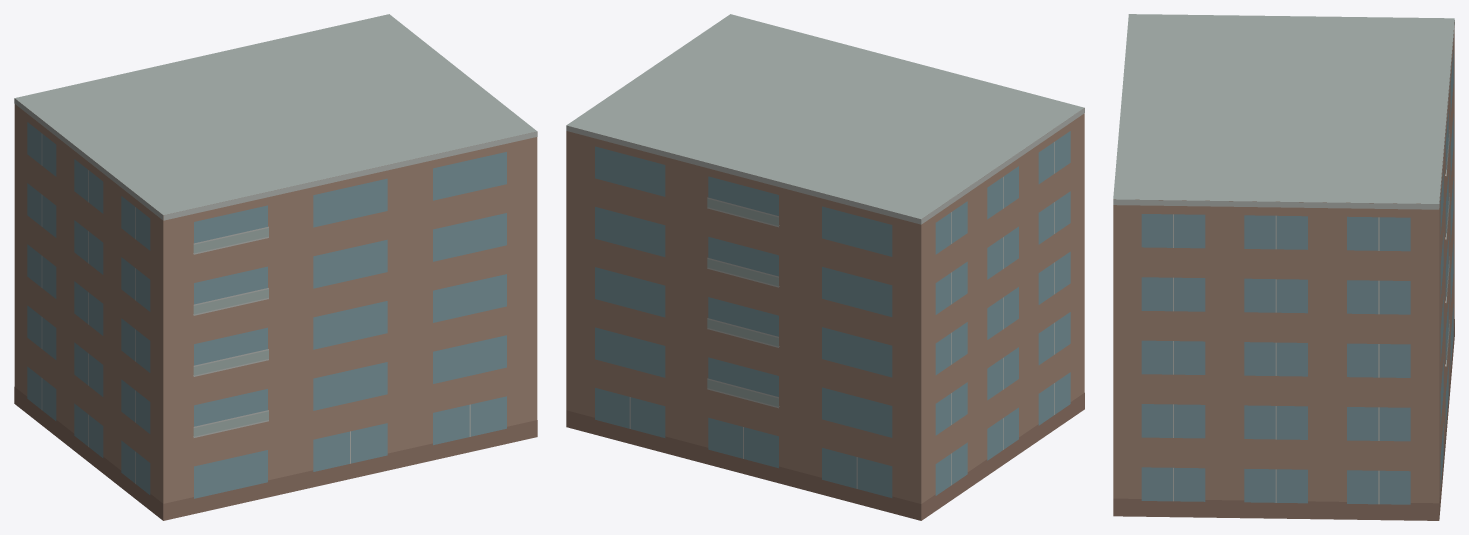
Rendered from survey-upis-32664687.glb.
3 views of the same model, side by side, from view 1: azimuth 30°, elevation 25°; view 2: azimuth 150°, elevation 25°; view 3: azimuth 270°, elevation 25° (orthographic). The views are drawn at different scales.
Visible parts, largest first — view 1: survey-upis-32664687.tmp; view 2: survey-upis-32664687.tmp; view 3: survey-upis-32664687.tmp.
Part boxes in pixels (bbox=[...]): survey-upis-32664687.tmp: bbox=[14, 14, 537, 520]; survey-upis-32664687.tmp: bbox=[566, 14, 1084, 520]; survey-upis-32664687.tmp: bbox=[1113, 14, 1454, 520].
Bounding box in the file's own units: 17.5 × 13.6 × 13.3.
